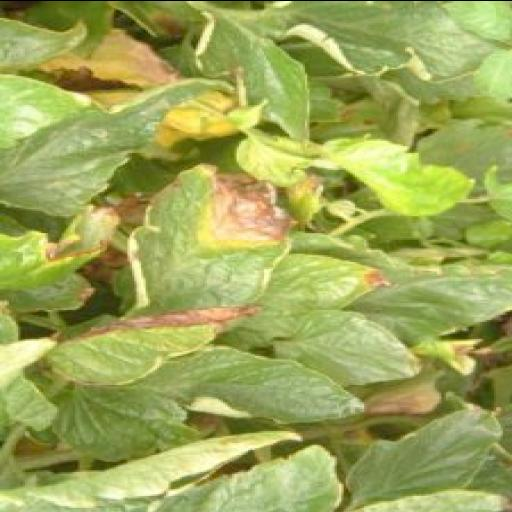Early Blight: (123, 160, 297, 312), (40, 306, 256, 387)
